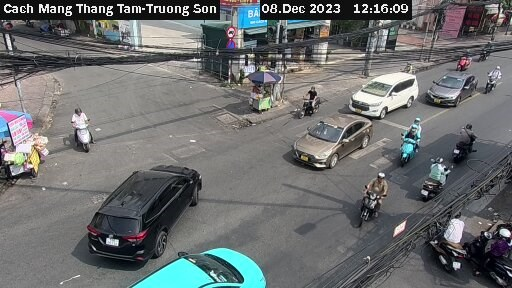car: (86, 156, 199, 263), (120, 246, 273, 288), (288, 105, 373, 172), (348, 67, 423, 123), (427, 61, 477, 112)
motorbike: (468, 214, 512, 284), (420, 206, 466, 272), (347, 173, 392, 228), (440, 120, 494, 164), (382, 112, 426, 160), (58, 110, 103, 153), (415, 158, 454, 198), (288, 91, 323, 116), (487, 57, 506, 96), (446, 47, 473, 73), (478, 35, 503, 63)
